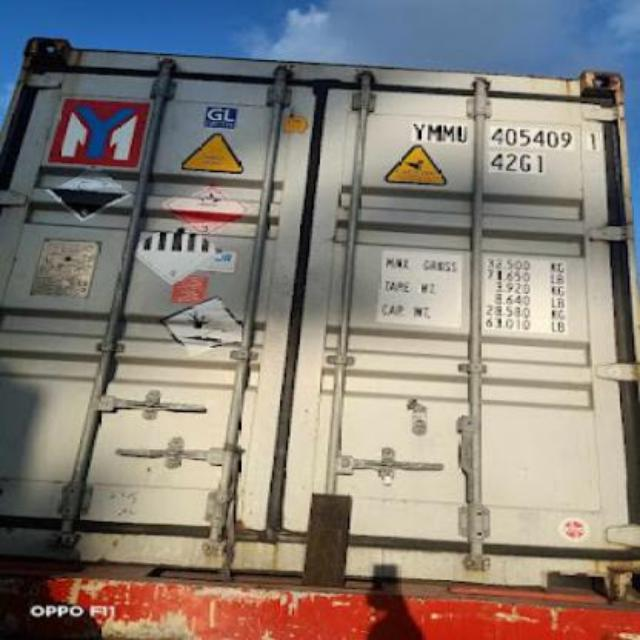0: (504, 116, 518, 148), (544, 120, 558, 150)
1: (586, 127, 600, 153)
4: (491, 118, 504, 146), (534, 122, 546, 148)
5: (518, 116, 532, 148)
9: (558, 124, 574, 148)
M: (441, 114, 454, 146), (424, 117, 440, 141)
U: (454, 116, 468, 148)
Y: (410, 116, 426, 142)
